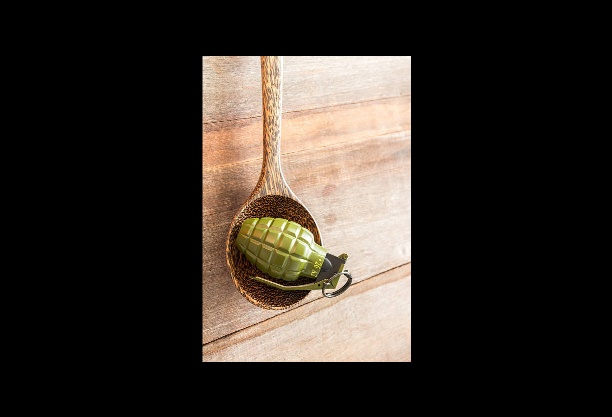e1: (231, 215, 354, 301)
